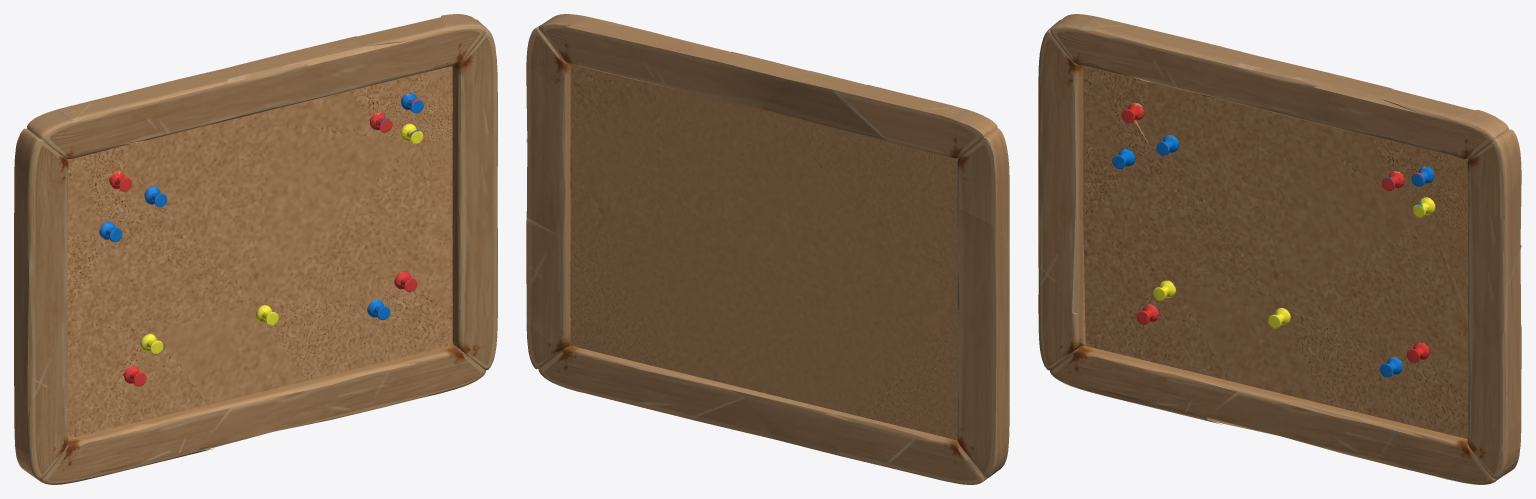
The model's file is bacheca.glb.
The picture shows the model from 3 angles, left to right: view 1: azimuth 30°, elevation 25°; view 2: azimuth 150°, elevation 25°; view 3: azimuth 330°, elevation 25°; orthographic projection.
Parts seen in each view (by area): view 1: Mesh_0; view 2: Mesh_0; view 3: Mesh_0.
Part boxes in pixels (left/top/right/bottom): Mesh_0: left=14, top=14, right=497, bottom=484; Mesh_0: left=526, top=14, right=1009, bottom=484; Mesh_0: left=1038, top=14, right=1521, bottom=484.
Size of the model in its own units: 1.9 by 1.41 by 0.1365.
Materials: 1 (1 with a texture image).
